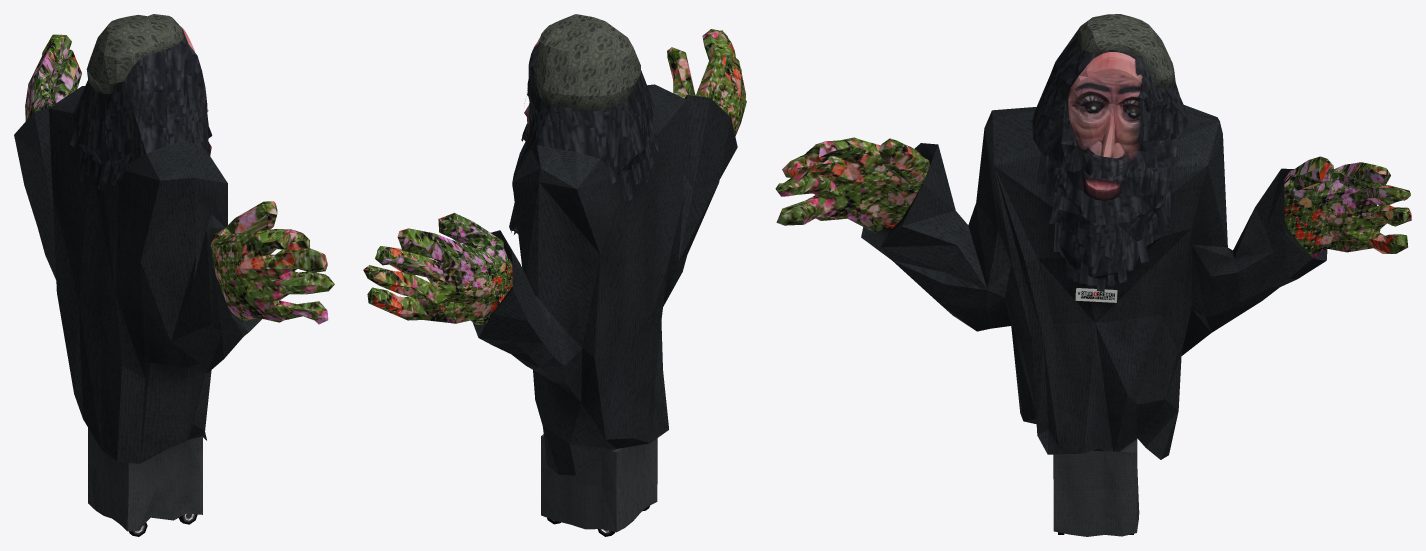
The model's file is Новый проект.gltf.
The picture shows the model from 3 angles, left to right: view 1: azimuth 30°, elevation 25°; view 2: azimuth 150°, elevation 25°; view 3: azimuth 270°, elevation 25°; orthographic projection. The views are drawn at different scales.
Parts seen in each view (by area): view 1: mr rolling funny; view 2: mr rolling funny; view 3: mr rolling funny.
Boxes of the visible parts, x1,y1,x2,y2 form: mr rolling funny: (14,14,334,536); mr rolling funny: (363,14,746,536); mr rolling funny: (775,14,1411,536).
Bounding box in the file's own units: 3.36 × 12.17 × 13.93.
1 material, 1 textured.
